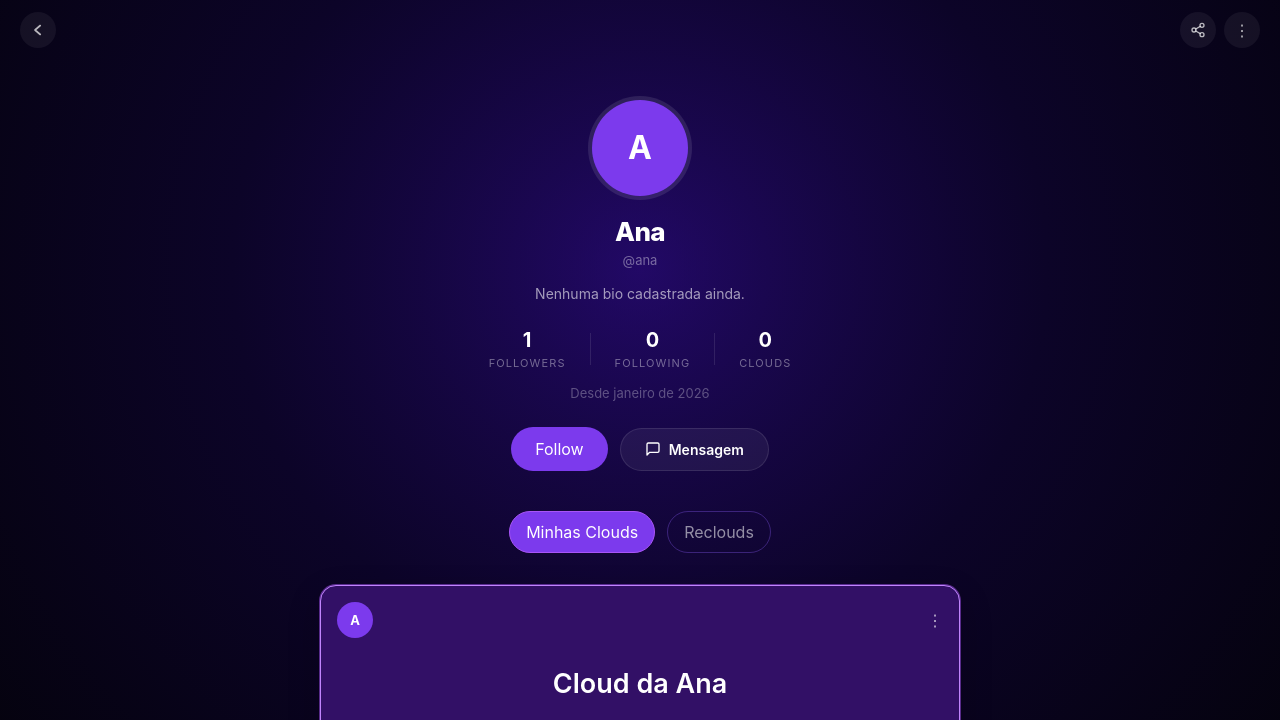
Scenario: profile follow counters › switches between the visited user's Clouds and Reclouds
Expected: the heading "Cloud da Ana" is shown, [553,667,727,701]
Click the tab "Reclouds".
click(719, 532)  # box [667,511,771,553]
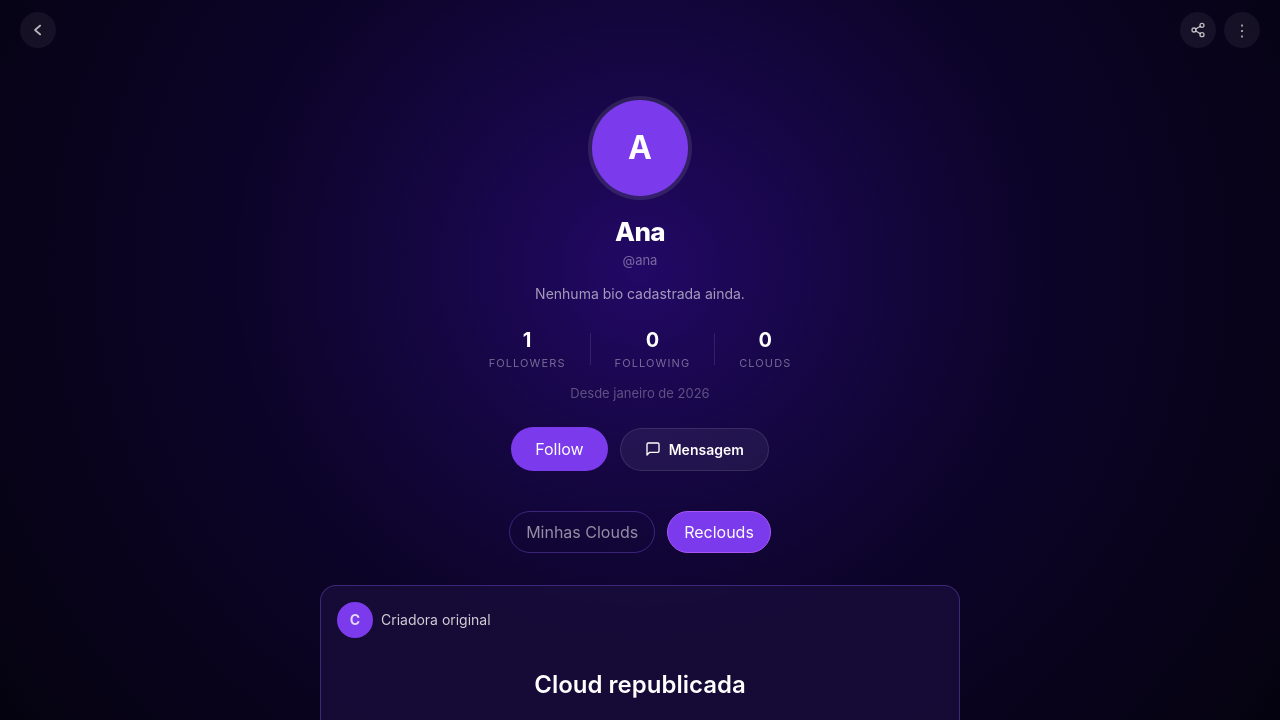
Expected: the link "Cloud republicada" is shown, [534,670,746,699]
Expected: the link "Cloud da Ana" is gone
Click the tab "Minhas Clouds".
click(582, 532)  # box [509,511,655,553]
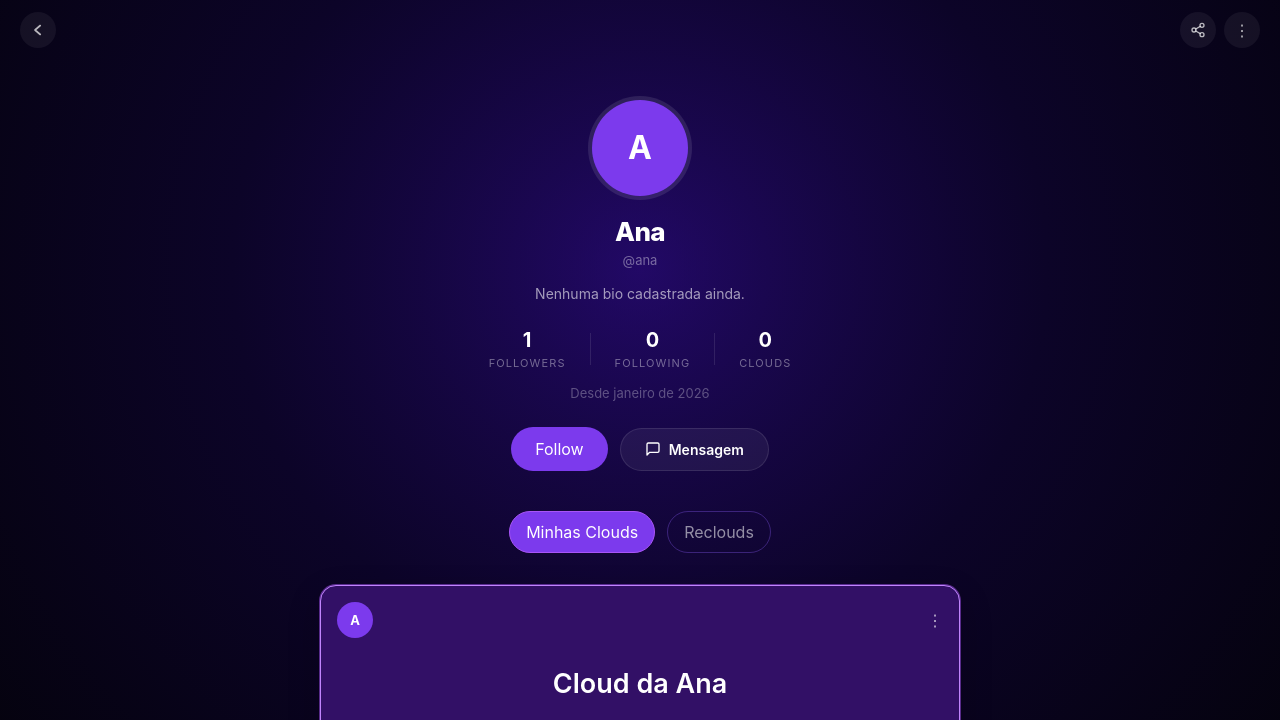
Expected: the heading "Cloud da Ana" is shown, [553,667,727,701]
